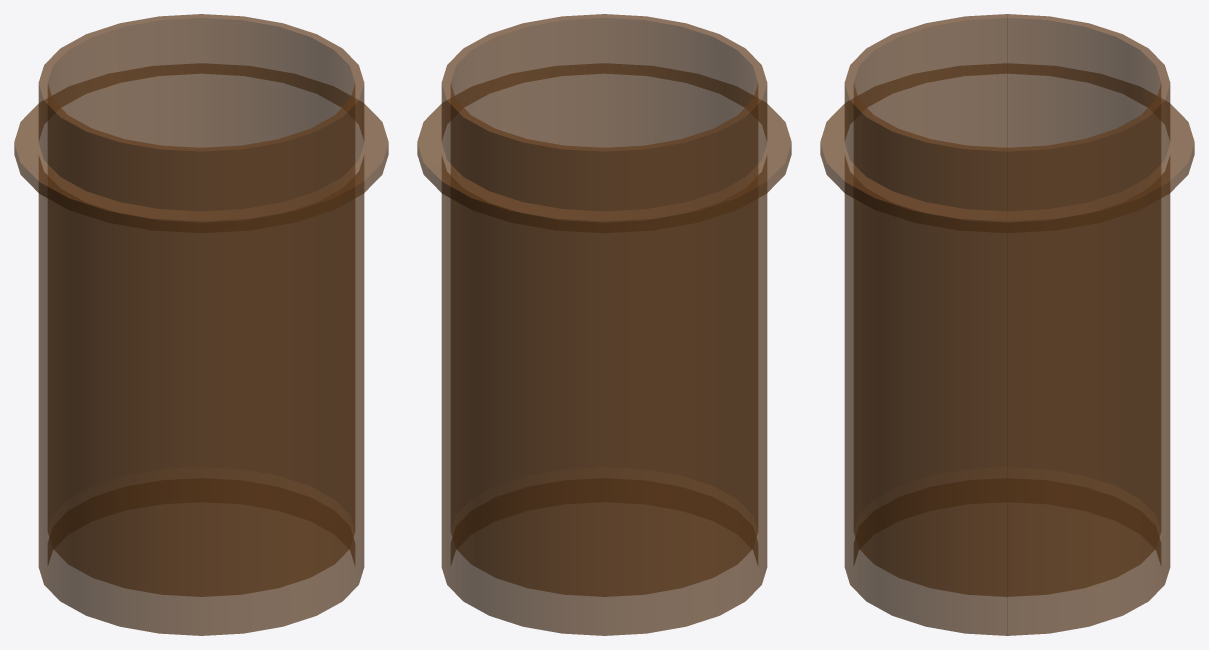
File: bottle.glb
3 views of the same model, side by side, from view 1: azimuth 30°, elevation 25°; view 2: azimuth 150°, elevation 25°; view 3: azimuth 270°, elevation 25° (orthographic).
Parts seen in each view (by area): view 1: bottle; view 2: bottle; view 3: bottle.
Part boxes in pixels (x1,y1,x2,y2): bottle: [14, 14, 388, 635]; bottle: [417, 14, 791, 635]; bottle: [820, 14, 1194, 635].
Size of the model in its own units: 0.0747 by 0.1066 by 0.0747.
